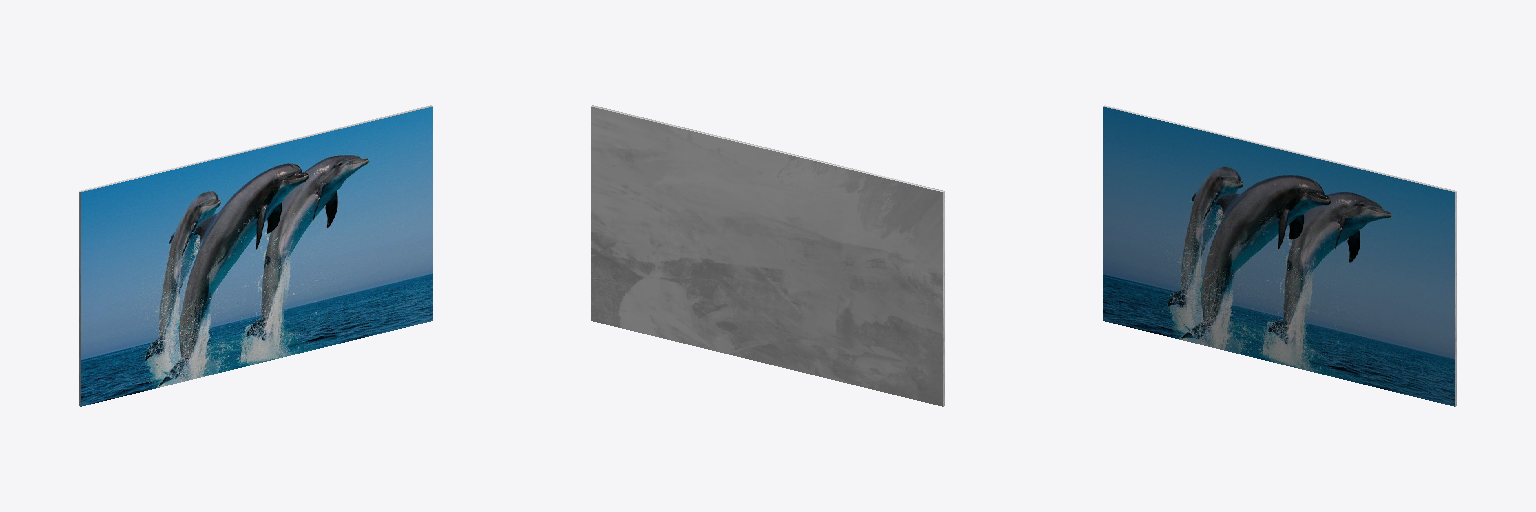
The picture shows the model from 3 angles: view 1: azimuth 30°, elevation 25°; view 2: azimuth 150°, elevation 25°; view 3: azimuth 330°, elevation 25°; orthographic projection.
Visible parts, largest first — view 1: Box001; view 2: Box001; view 3: Box001.
Boxes of the visible parts, x1,y1,x2,y2 form: Box001: [79, 105, 432, 406]; Box001: [591, 105, 944, 406]; Box001: [1103, 105, 1456, 406].
Bounding box in the file's own units: 28.52 × 16.58 × 0.2514.
Materials: 2 (2 with a texture image).